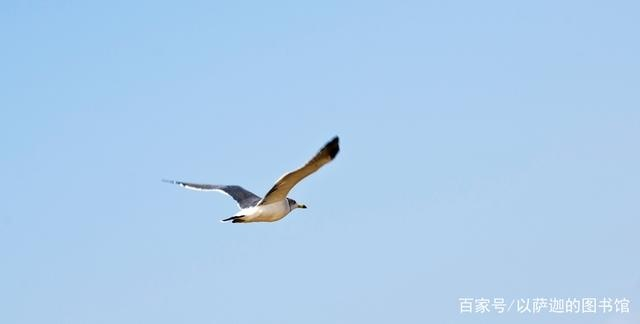bird: (158, 136, 340, 230)
